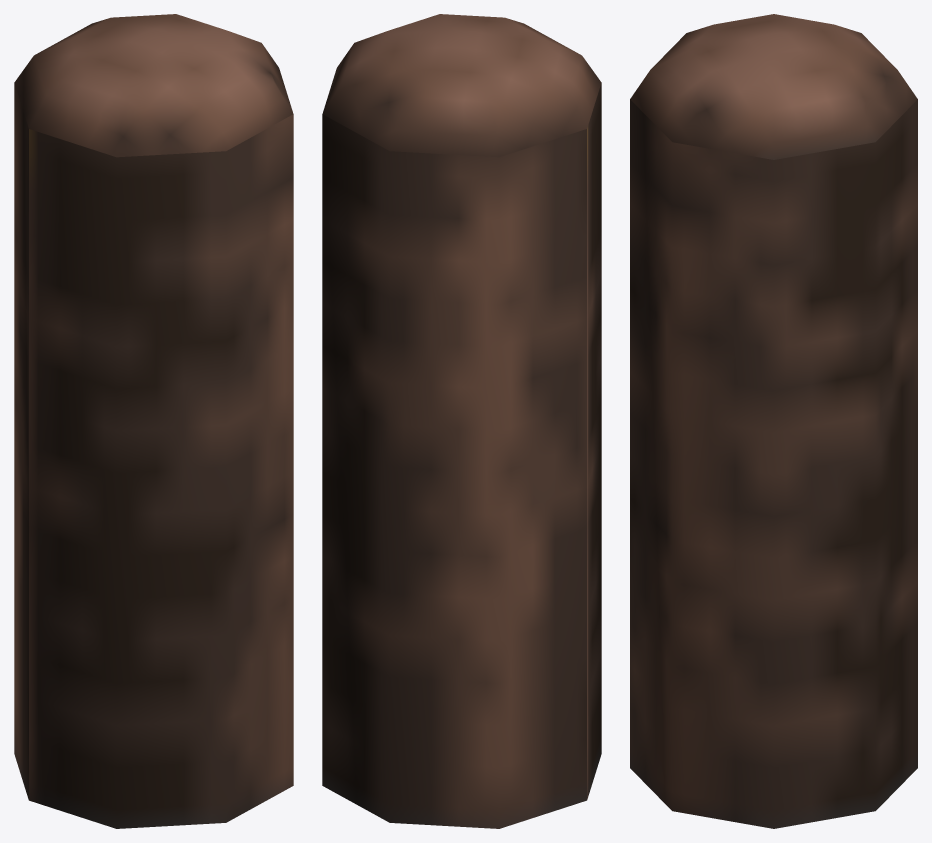
Rendered from fencepost_wood_0420x05.obj.
3 renders of one model, left to right at view 1: azimuth 30°, elevation 25°; view 2: azimuth 150°, elevation 25°; view 3: azimuth 270°, elevation 25°, orthographic.
Parts seen in each view (by area): view 1: fencepost_wood; view 2: fencepost_wood; view 3: fencepost_wood.
Boxes of the visible parts, x1,y1,x2,y2 form: fencepost_wood: (14, 14, 293, 828); fencepost_wood: (322, 14, 601, 828); fencepost_wood: (630, 14, 917, 828).
Bounding box in the file's own units: 0.7599 × 2.13 × 0.7599.
